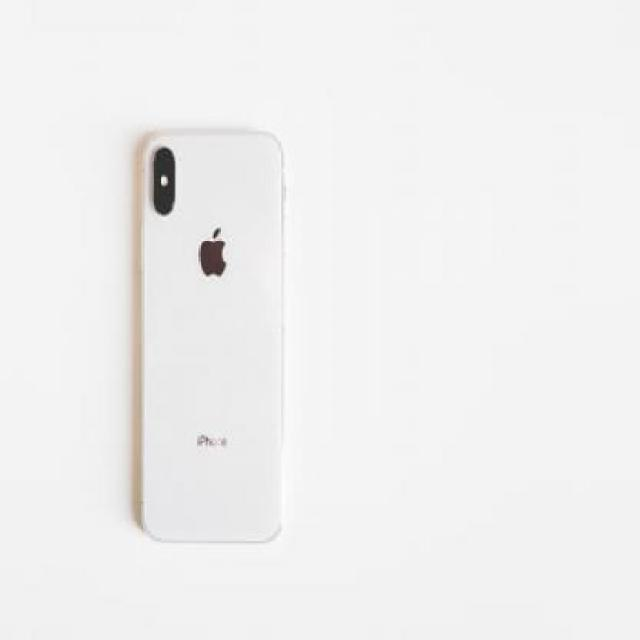phone: (142, 127, 280, 545)
